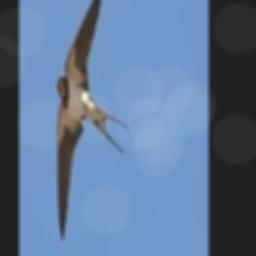Swallow: (55, 0, 129, 241)
